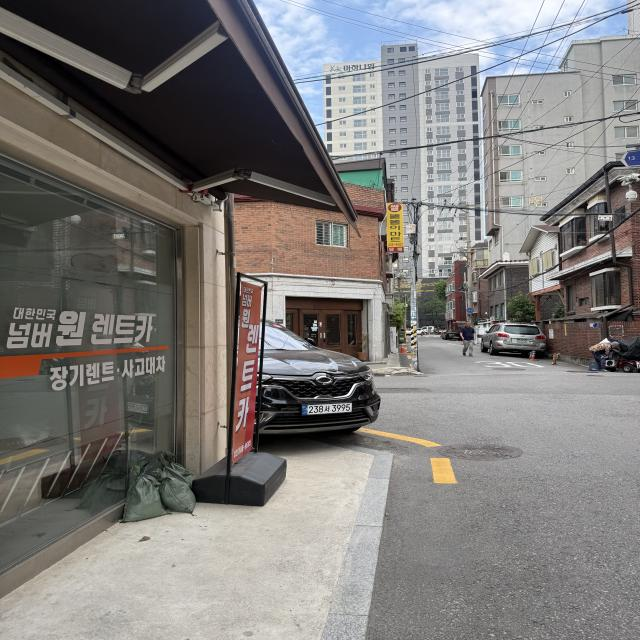car: (67, 297, 407, 458), (475, 315, 559, 370)
